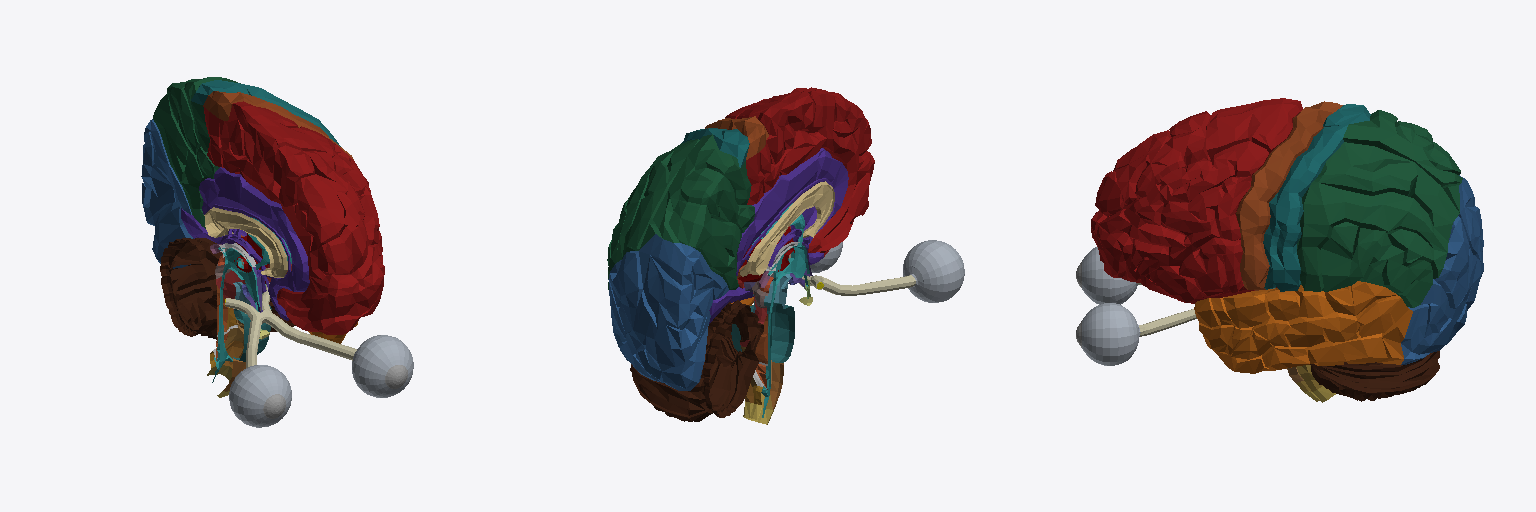
Rendered from animatedBrain_L.obj.
The picture shows the model from 3 angles: view 1: azimuth 30°, elevation 25°; view 2: azimuth 150°, elevation 25°; view 3: azimuth 270°, elevation 25°; orthographic projection.
Visible parts, largest first — view 1: corpuscollosum_LShape, _Color_Brain:EYE_Optic_Nerve; view 2: corpuscollosum_LShape, _Color_Brain:EYE_Optic_Nerve; view 3: corpuscollosum_LShape, _Color_Brain:EYE_Optic_Nerve.
Boxes of the visible parts, x1,y1,x2,y2 form: corpuscollosum_LShape: [141, 77, 384, 397]; _Color_Brain:EYE_Optic_Nerve: [225, 288, 413, 427]; corpuscollosum_LShape: [607, 87, 874, 424]; _Color_Brain:EYE_Optic_Nerve: [799, 240, 964, 302]; corpuscollosum_LShape: [1091, 98, 1483, 402]; _Color_Brain:EYE_Optic_Nerve: [1076, 247, 1196, 365].
Size of the model in its own units: 0.4919 by 0.6577 by 0.8046.